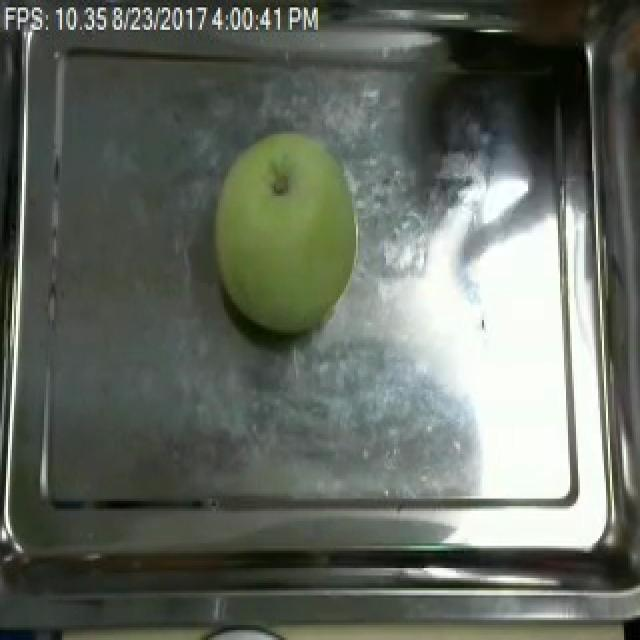50-_ripeness: (194, 114, 370, 347)
